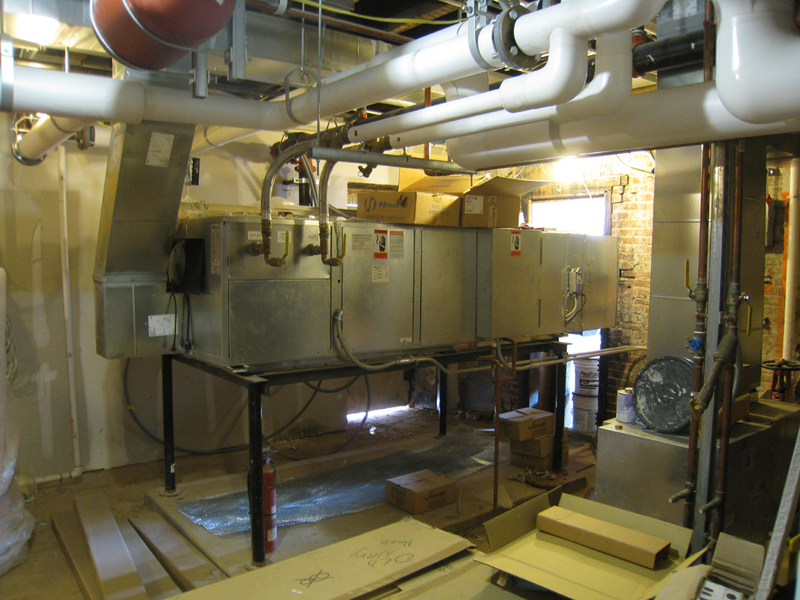valve: (723, 279, 758, 345), (680, 255, 708, 315), (273, 225, 298, 271), (339, 233, 351, 279)
